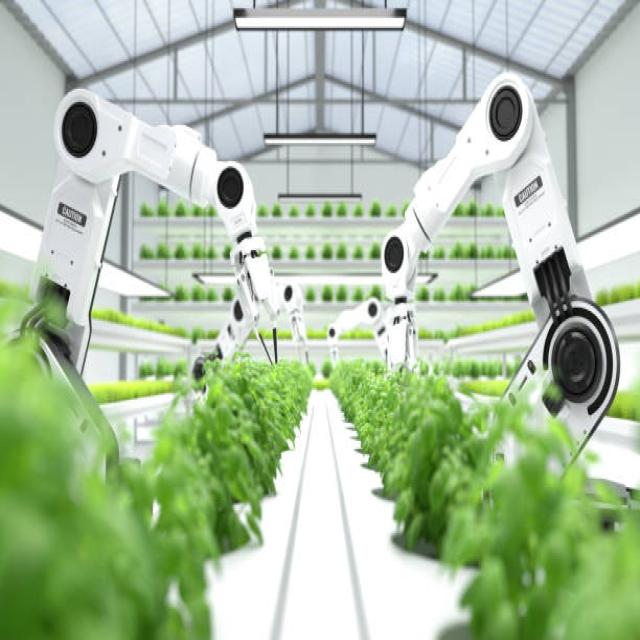Robotic-arm: (377, 62, 626, 493), (23, 80, 309, 413)
